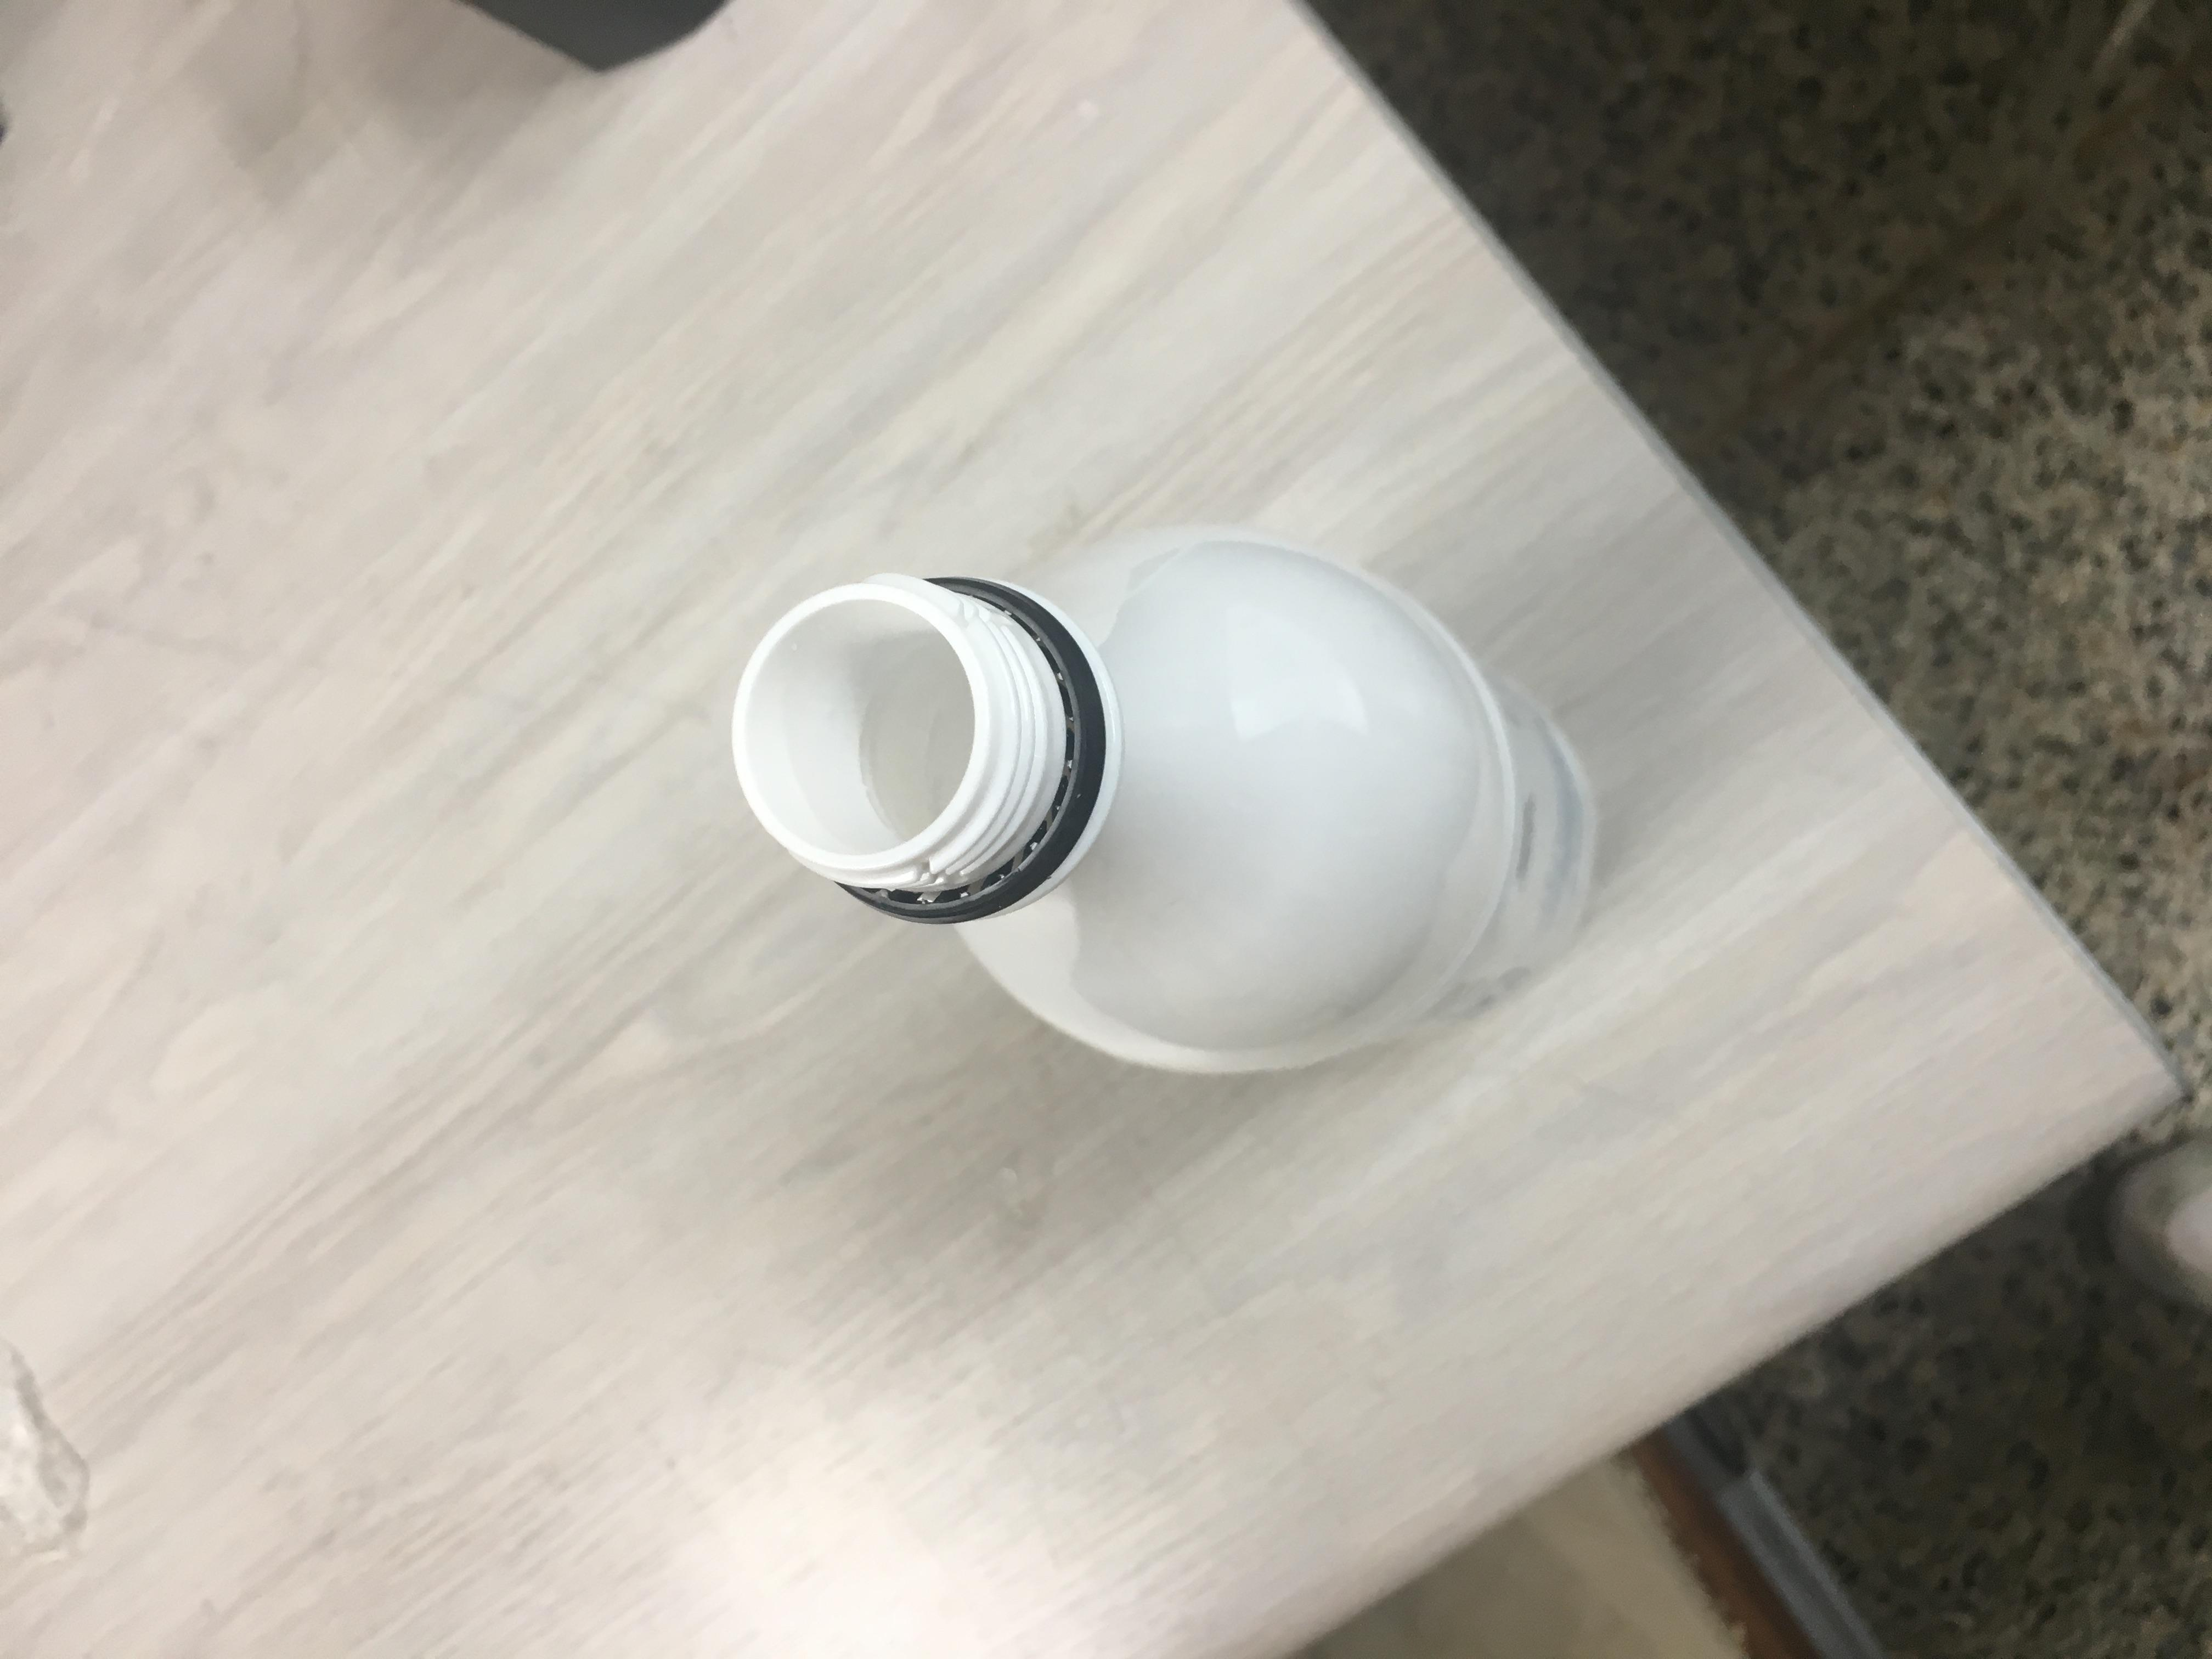bottle: (631, 535, 1629, 1206)
